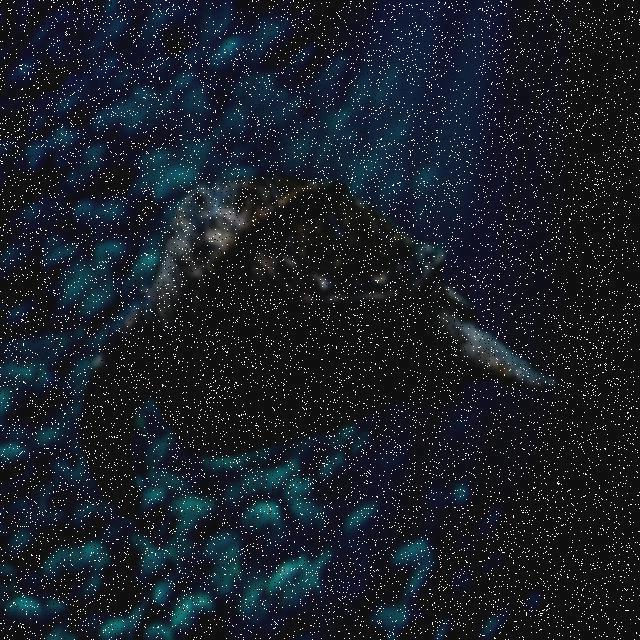tortoise: (103, 166, 544, 414)
